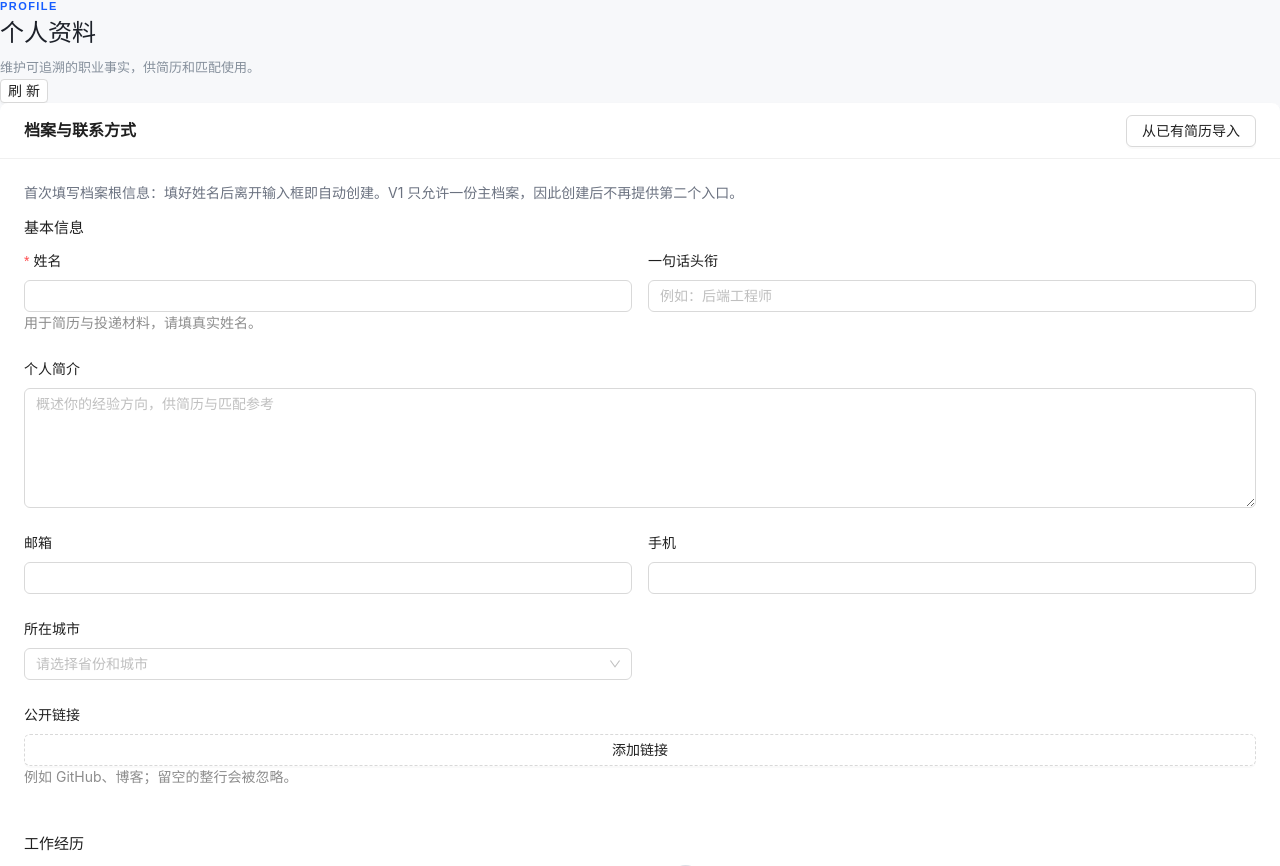
Test: ProfileView › 选择"从已有简历导入"在当前页弹出文件选择弹窗，不跳转到单独页面
The width and height of the screenshot is (1280, 866).
Click the button with test id "start-resume-import": (1191, 130) 1126,114 -> 1256,146
(page scrolled)
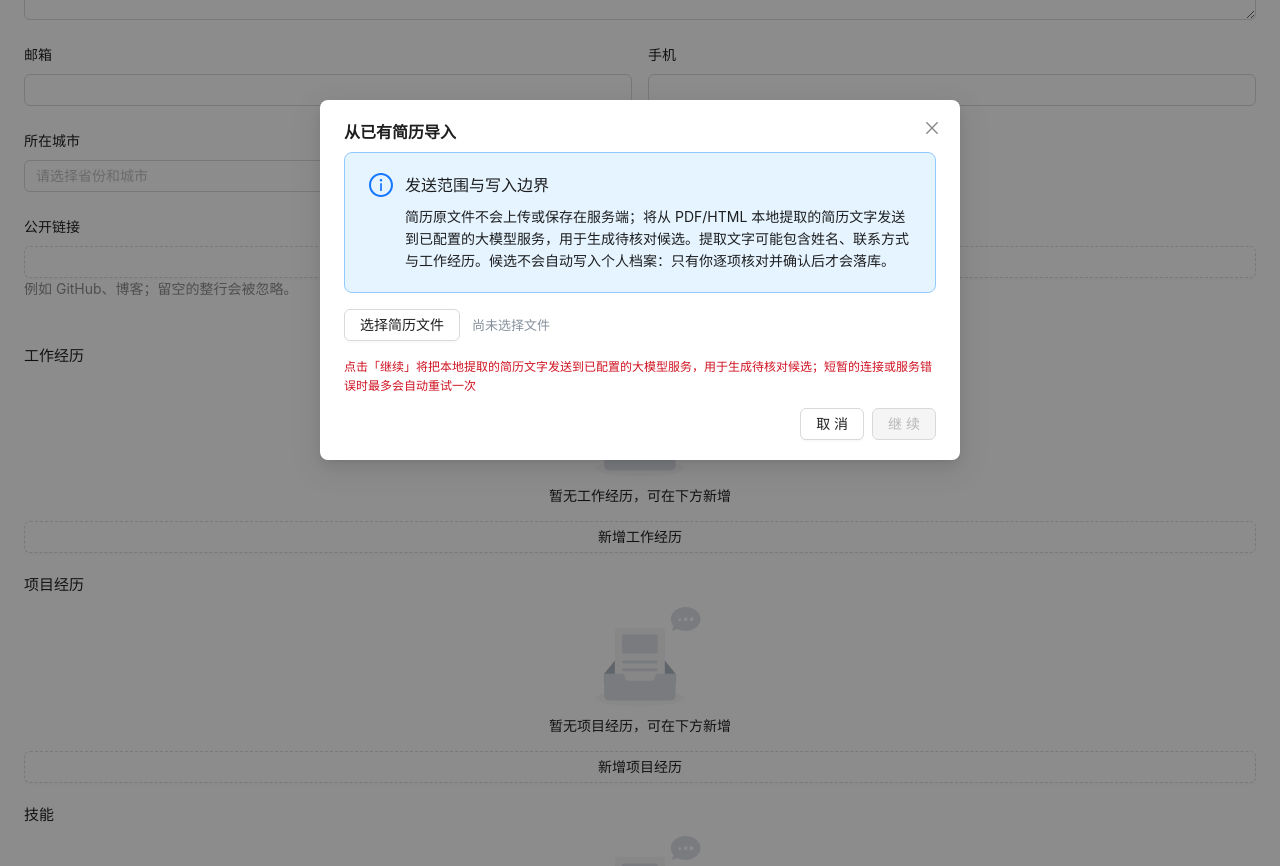
Result: the element with test id "import-modal" is shown at 344,152 -> 936,396
Result: the element showing "选择简历文件 尚未选择文件" is shown at 344,309 -> 550,341
Result: the element with test id "import-modal" shows "大模型服务" at 405,208 -> 909,269
